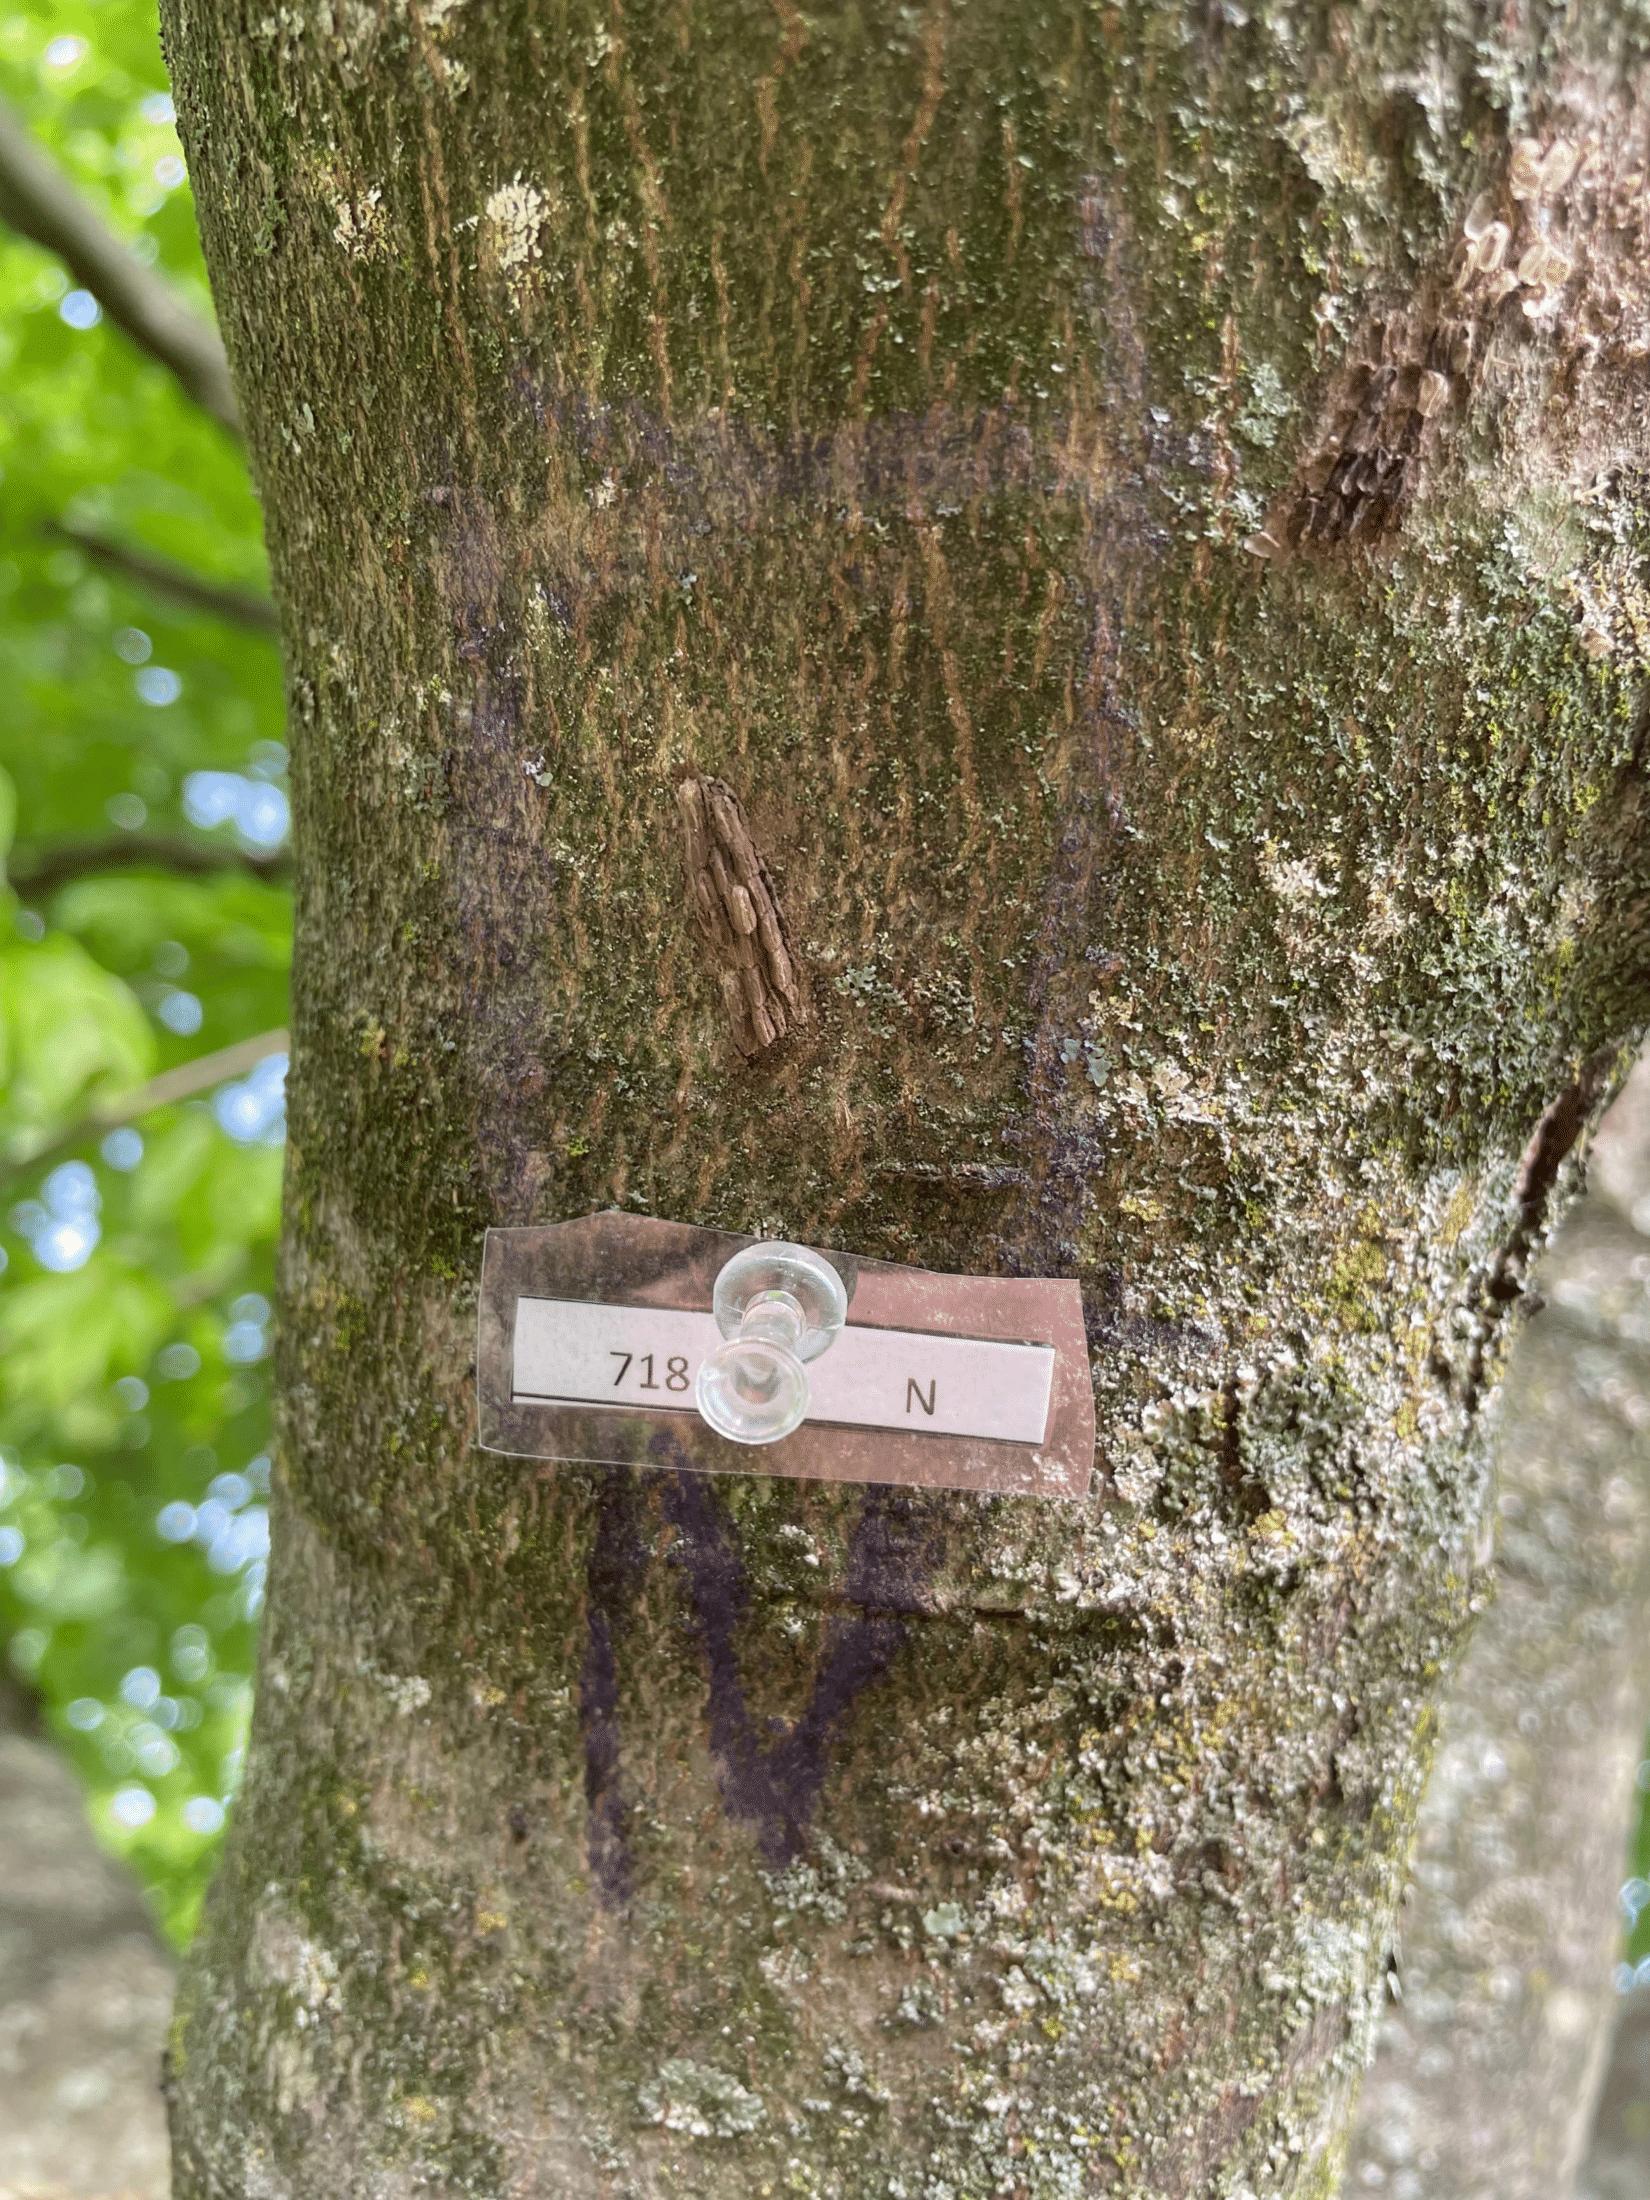egg masses: (1243, 40, 1648, 584), (627, 743, 861, 1093)
